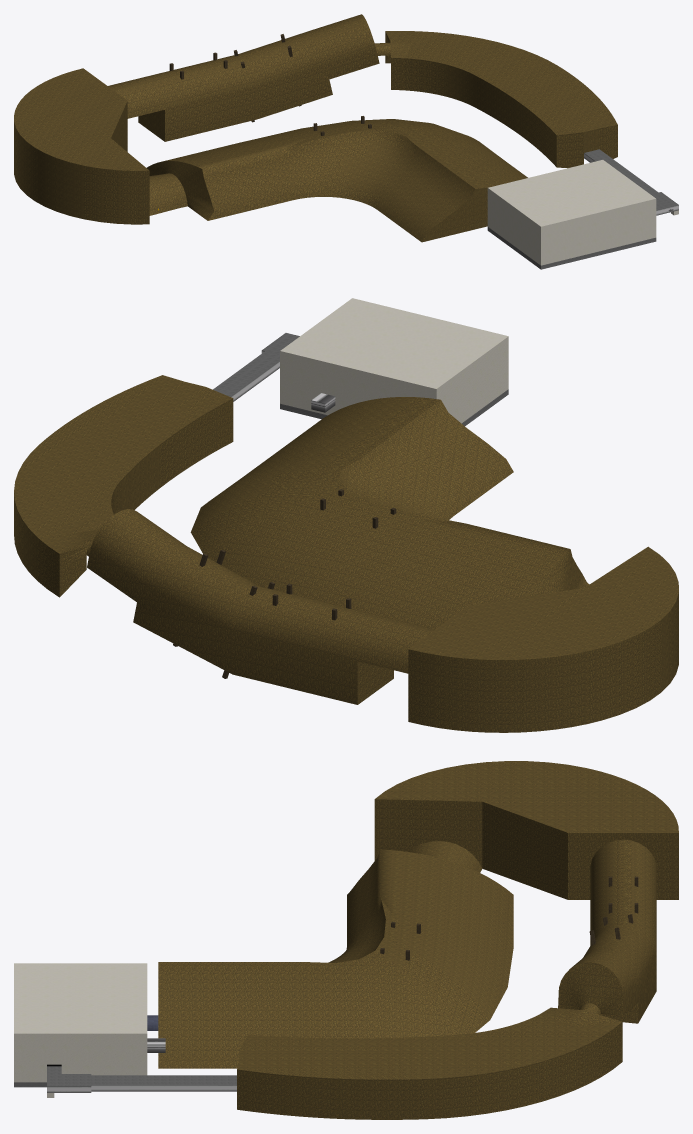
The picture shows the model from 3 angles, top to bottom: view 1: azimuth 30°, elevation 25°; view 2: azimuth 150°, elevation 25°; view 3: azimuth 270°, elevation 25°; orthographic projection. The views are drawn at different scales.
Visible parts, largest first — view 1: course-SKP--insidewall, course-SKP--wall.001, course-SKP--ventroad, course-SKP--wallbottom, course-SKP--post; view 2: course-SKP--insidewall, course-SKP--wall.001, course-SKP--ventroad, course-SKP--post, course-SKP--insideventmetal; view 3: course-SKP--insidewall, course-SKP--wall.001, course-SKP--ventroad, course-SKP--insideventmetal, course-SKP--post.
Boxes of the visible parts, <box> form: course-SKP--insidewall: <box>14,14,617,242</box>; course-SKP--wall.001: <box>487,160,678,265</box>; course-SKP--ventroad: <box>584,149,678,211</box>; course-SKP--wallbottom: <box>487,227,656,269</box>; course-SKP--post: <box>169,34,371,135</box>; course-SKP--insidewall: <box>14,375,678,732</box>; course-SKP--wall.001: <box>280,298,508,423</box>; course-SKP--ventroad: <box>213,333,299,396</box>; course-SKP--post: <box>173,489,396,678</box>; course-SKP--insideventmetal: <box>231,350,335,412</box>; course-SKP--insidewall: <box>158,761,678,1119</box>; course-SKP--wall.001: <box>14,963,147,1097</box>; course-SKP--ventroad: <box>47,1066,236,1086</box>; course-SKP--insideventmetal: <box>47,1038,236,1092</box>; course-SKP--post: <box>380,876,638,960</box>.
Bounding box in the file's own units: 96072 × 16491 × 89871.
Materials: 20 (20 with a texture image).
